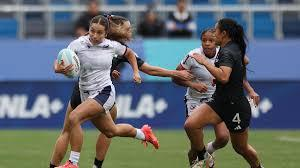ballon_rugby: (56, 47, 81, 79)
